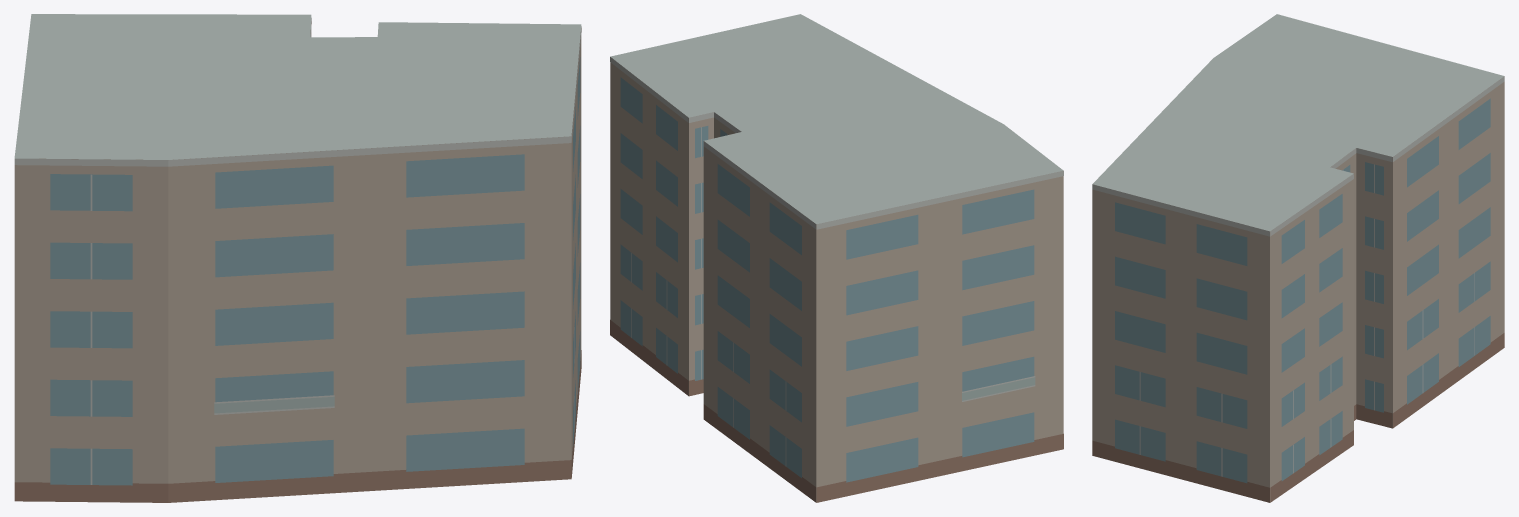
The model's file is survey-upis-32738025.glb.
3 renders of one model, left to right at view 1: azimuth 30°, elevation 25°; view 2: azimuth 150°, elevation 25°; view 3: azimuth 270°, elevation 25°, orthographic. The views are drawn at different scales.
Visible parts, largest first — view 1: survey-upis-32738025.tmp; view 2: survey-upis-32738025.tmp; view 3: survey-upis-32738025.tmp.
Boxes of the visible parts, box(x1,y1,x2,y2) form: survey-upis-32738025.tmp: box(14, 14, 581, 502); survey-upis-32738025.tmp: box(610, 14, 1063, 502); survey-upis-32738025.tmp: box(1092, 14, 1504, 502).
Size of the model in its own units: 21.56 by 12.55 by 17.29.
